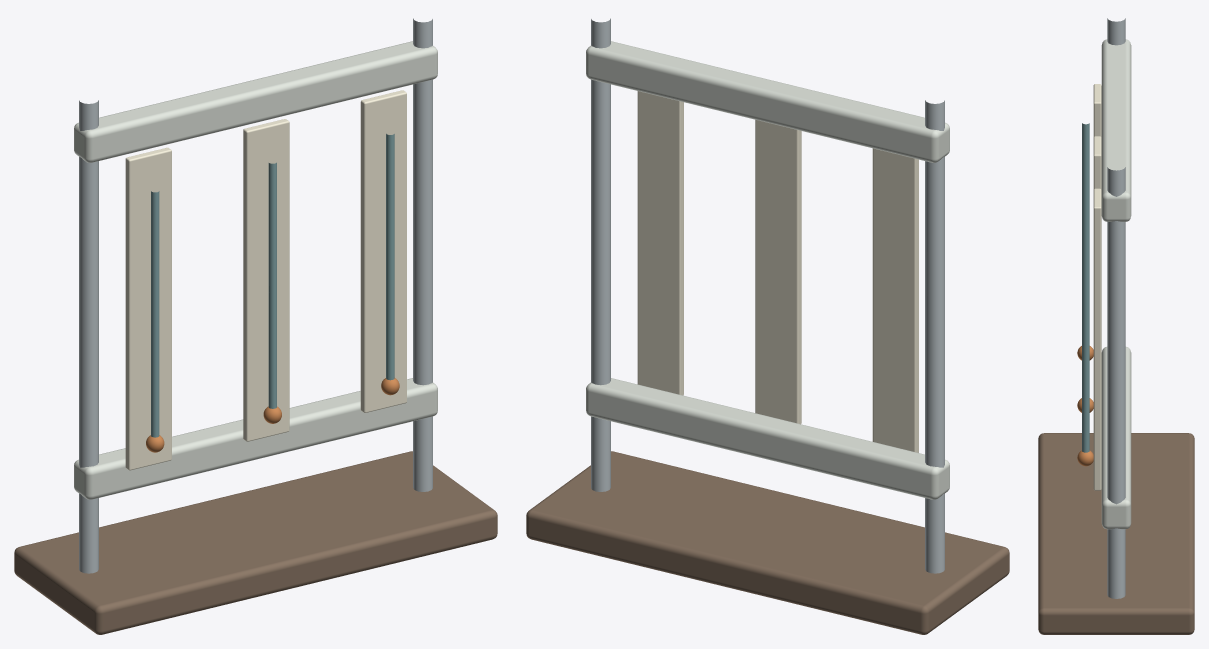
File: abandoned-weather-station-and-storm-shelter-thermomete-cb5dfeaa__31008.glb
3 renders of one model, left to right at view 1: azimuth 30°, elevation 25°; view 2: azimuth 150°, elevation 25°; view 3: azimuth 270°, elevation 25°, orthographic. The views are drawn at different scales.
Visible parts, largest first — view 1: thermometer-rack; view 2: thermometer-rack; view 3: thermometer-rack.
Part boxes in pixels (x1,y1,x2,y2): thermometer-rack: (14, 18, 497, 634); thermometer-rack: (526, 18, 1009, 634); thermometer-rack: (1038, 18, 1194, 634).
Bounding box in the file's own units: 0.65 × 0.77 × 0.24.
